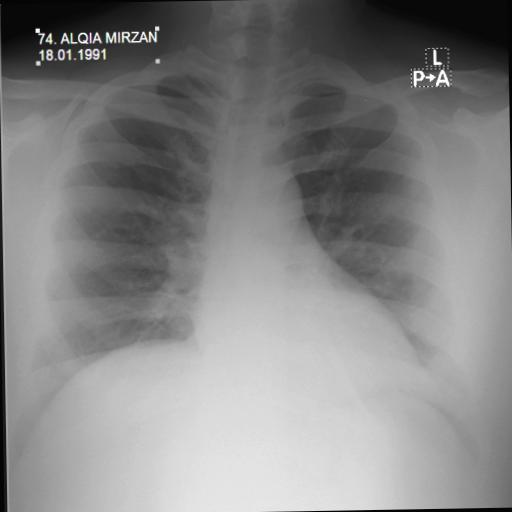kardiomegali: (0, 30, 511, 474)
